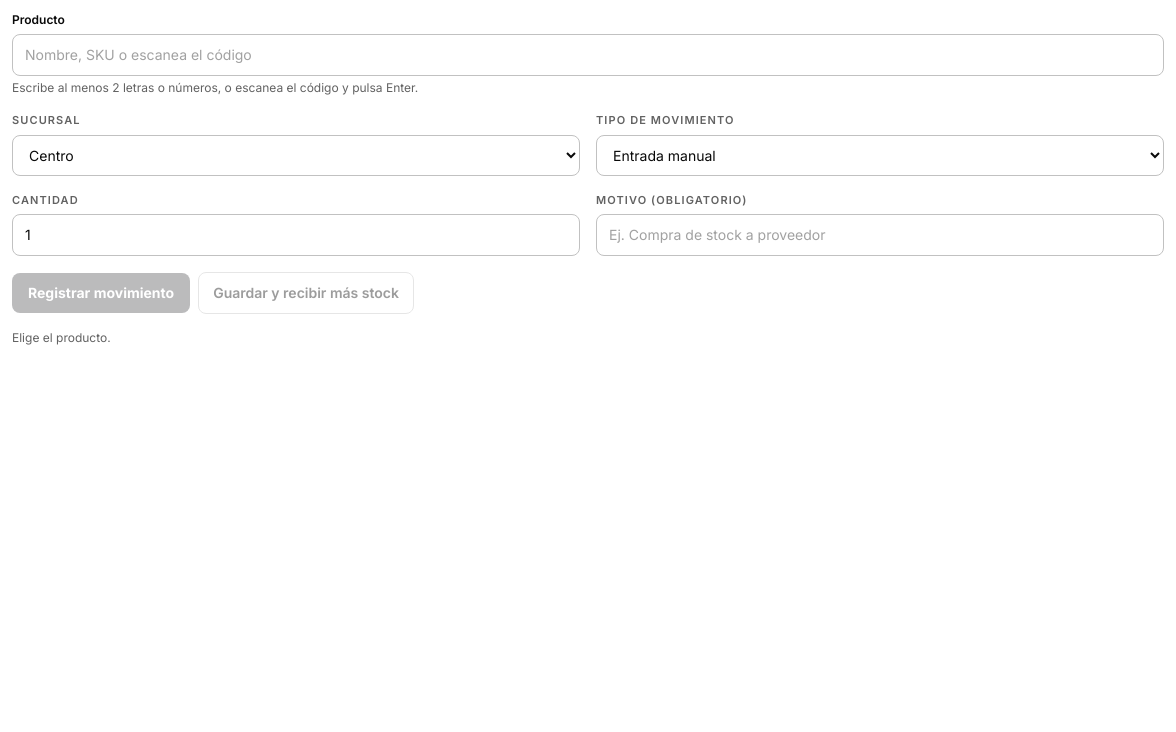
«Guardar y recibir más stock» keeps branch, type and reason and clears product and quantity
Type "BD-3" into the dropdown labelled "Producto" at x=588, y=55, box [12,34,1164,76]
Press Enter in the dropdown labelled "Producto", box [12,34,1164,76]
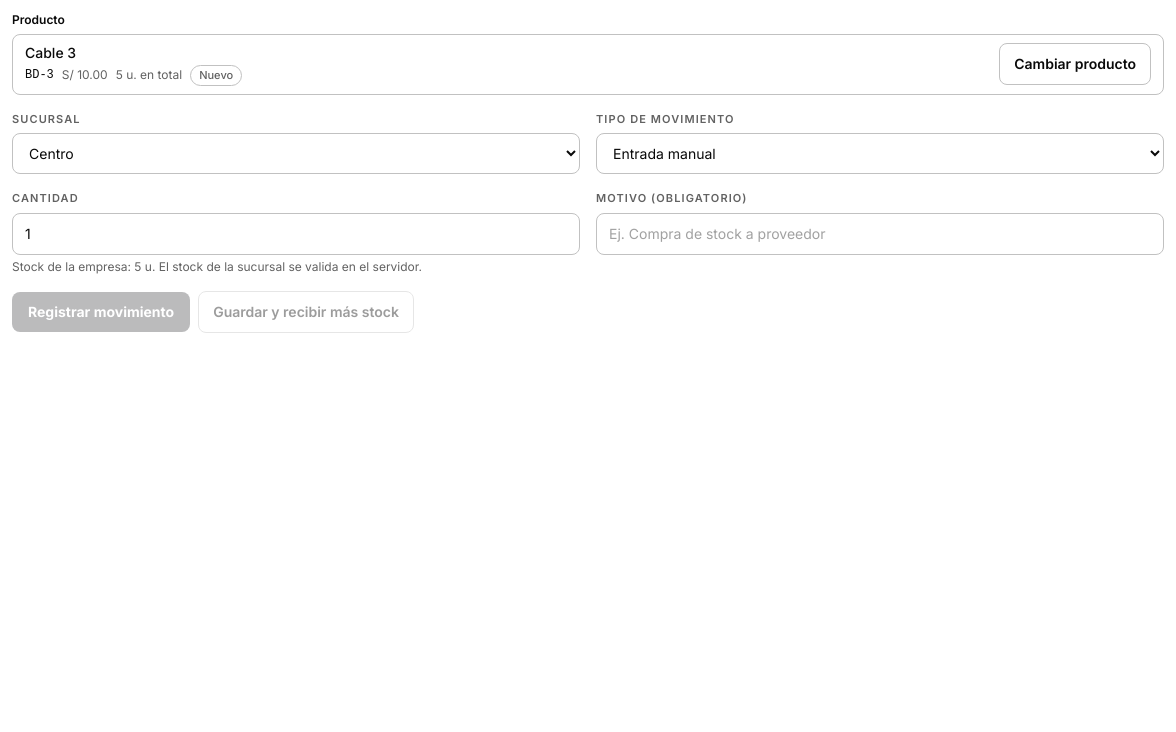
Select "Norte" in the dropdown labelled "Sucursal" at x=296, y=154, box [12,133,580,174]
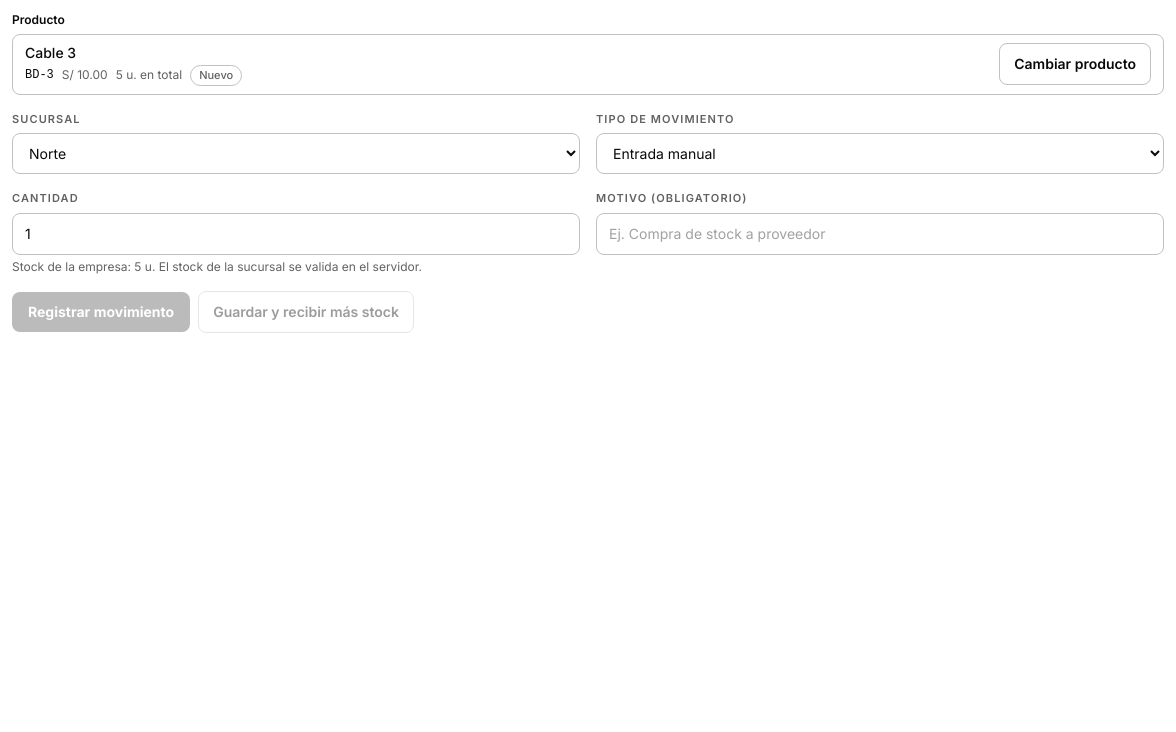
Select "Entrada por compra" in the dropdown labelled "Tipo de movimiento" at x=880, y=154, box [596,133,1164,174]
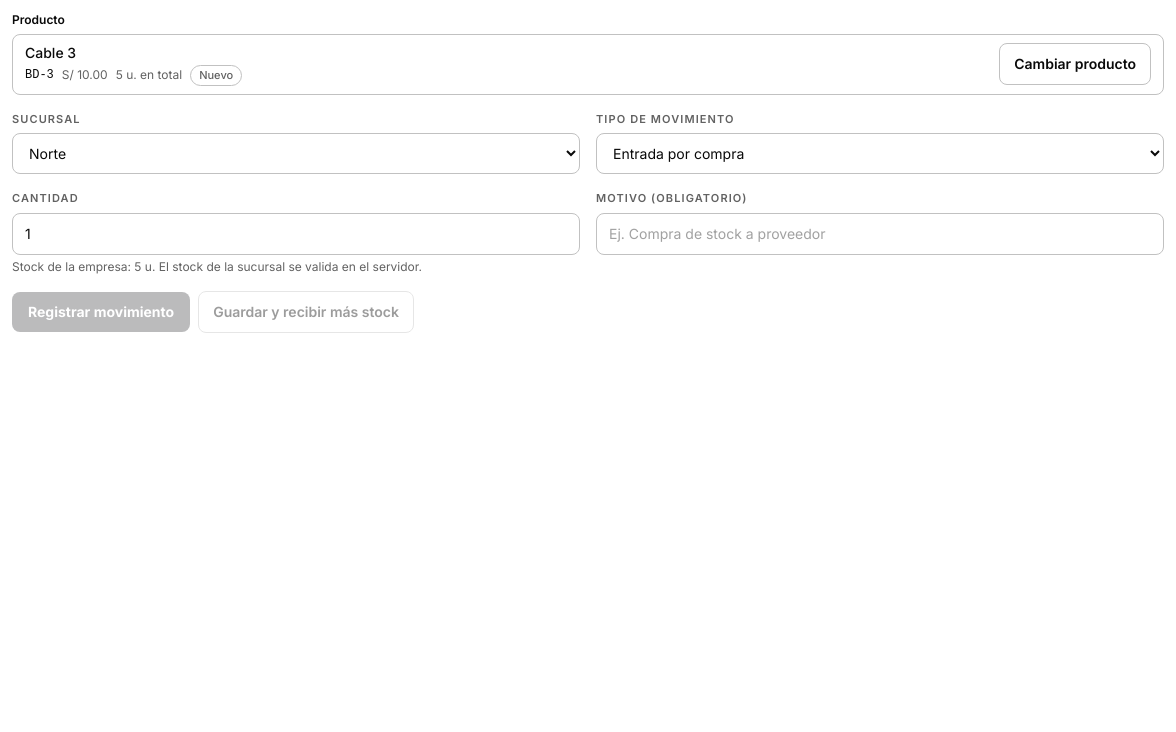
Replace the text in the number field labelled "Cantidad" with "7" at x=296, y=234, box [12,213,580,255]
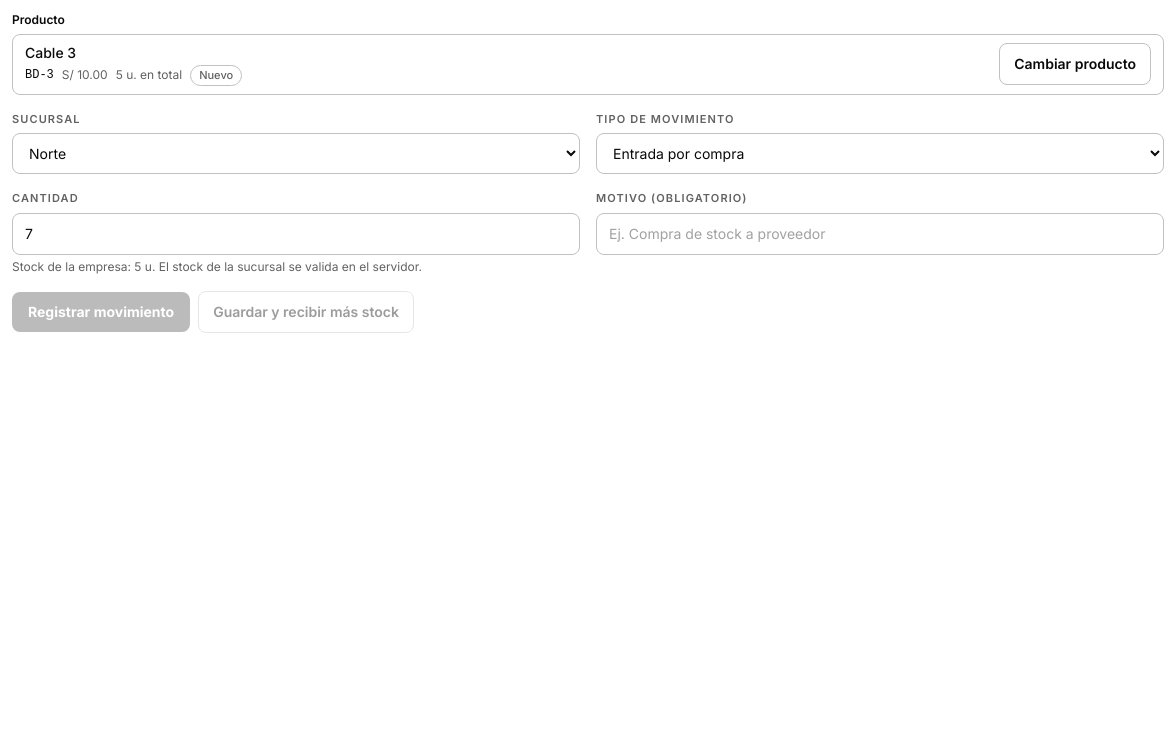
Type "Factura F001-9" into the field labelled "Motivo (obligatorio)" at x=880, y=234, box [596,213,1164,255]
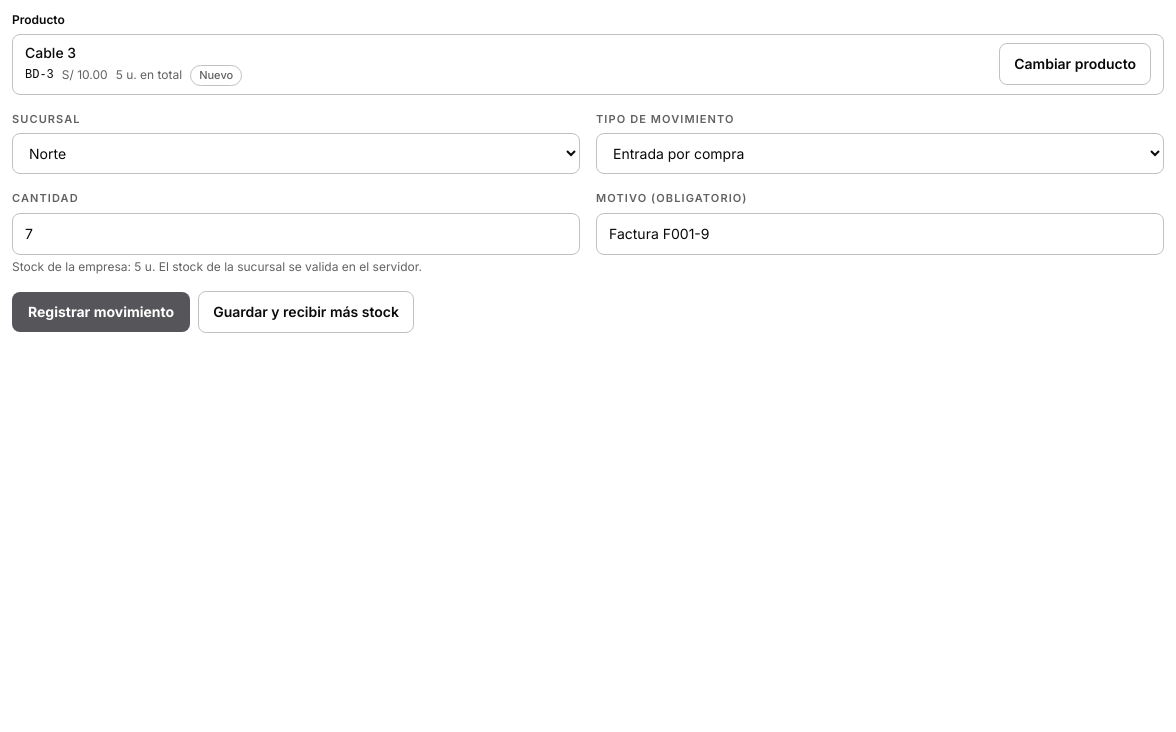
Click the button "Guardar y recibir más stock" at x=306, y=312, box [198,291,414,333]
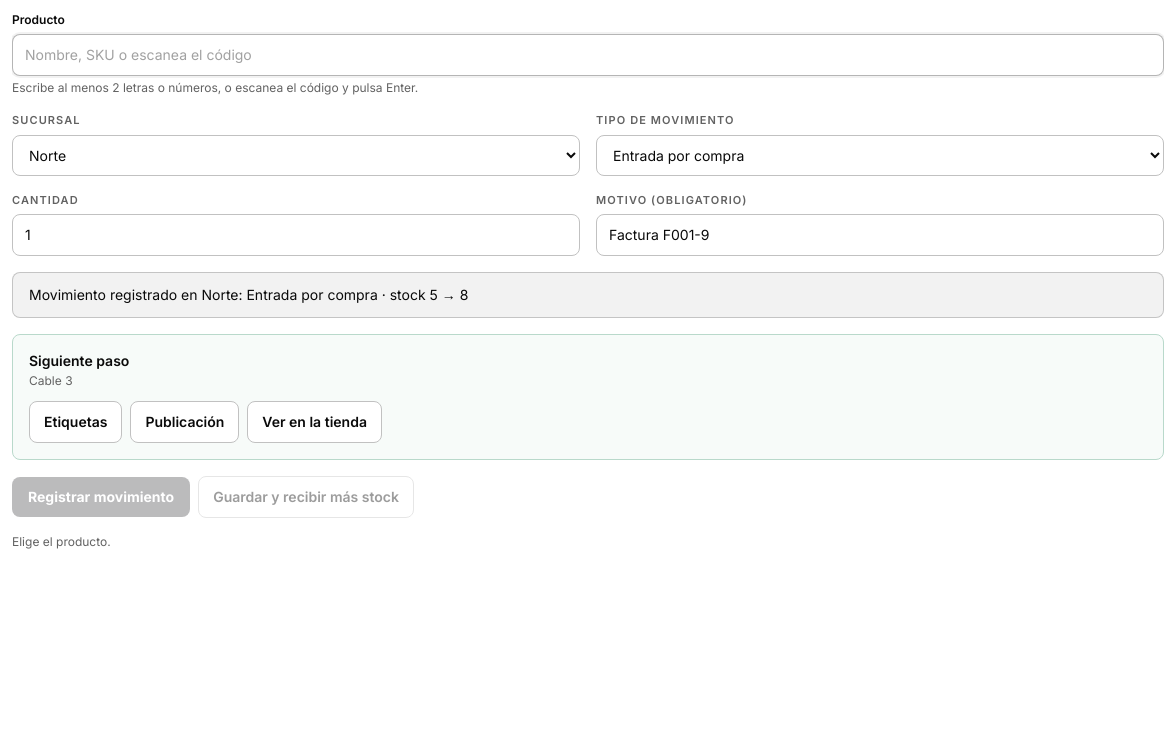
Now the element "Siguiente paso" is shown, box [12,334,1164,460]
Now the number field labelled "Cantidad" holds "1", box [12,214,580,256]
Now the dropdown labelled "Producto" is empty, box [12,34,1164,76]
